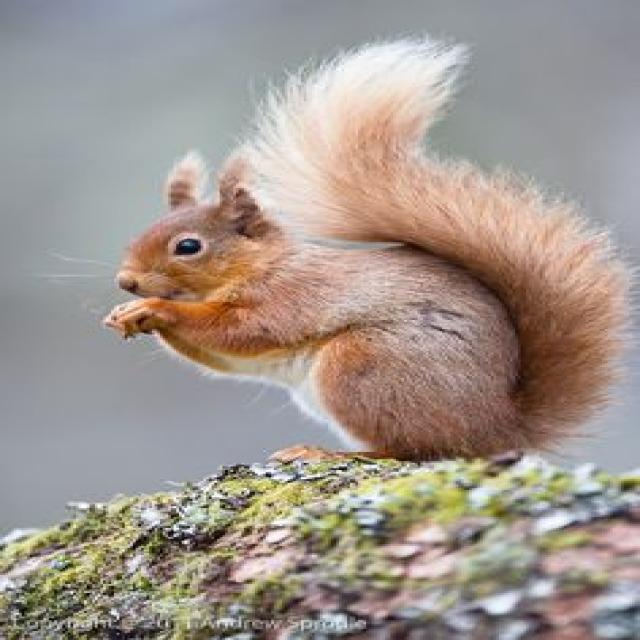Herbivorous: (100, 38, 637, 465)
